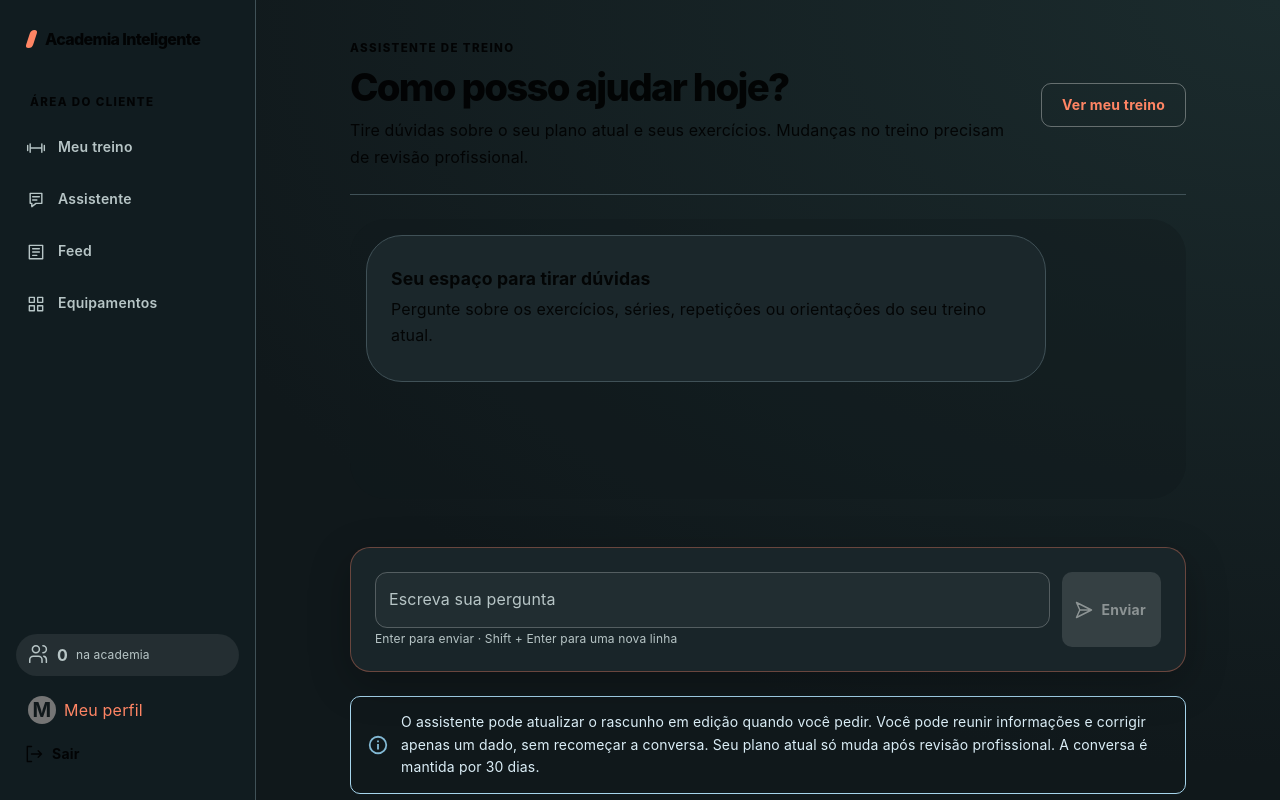
Scenario: sends a Portuguese client training-chat message with a frontend UUID
Expected: the heading "Seu espaço para tirar dúvidas" is shown, [391,268,651,290]
Replace the text in the text box labelled "Escreva sua pergunta" with "Como faço o agachamento?": (713, 600) [389,589,1036,612]
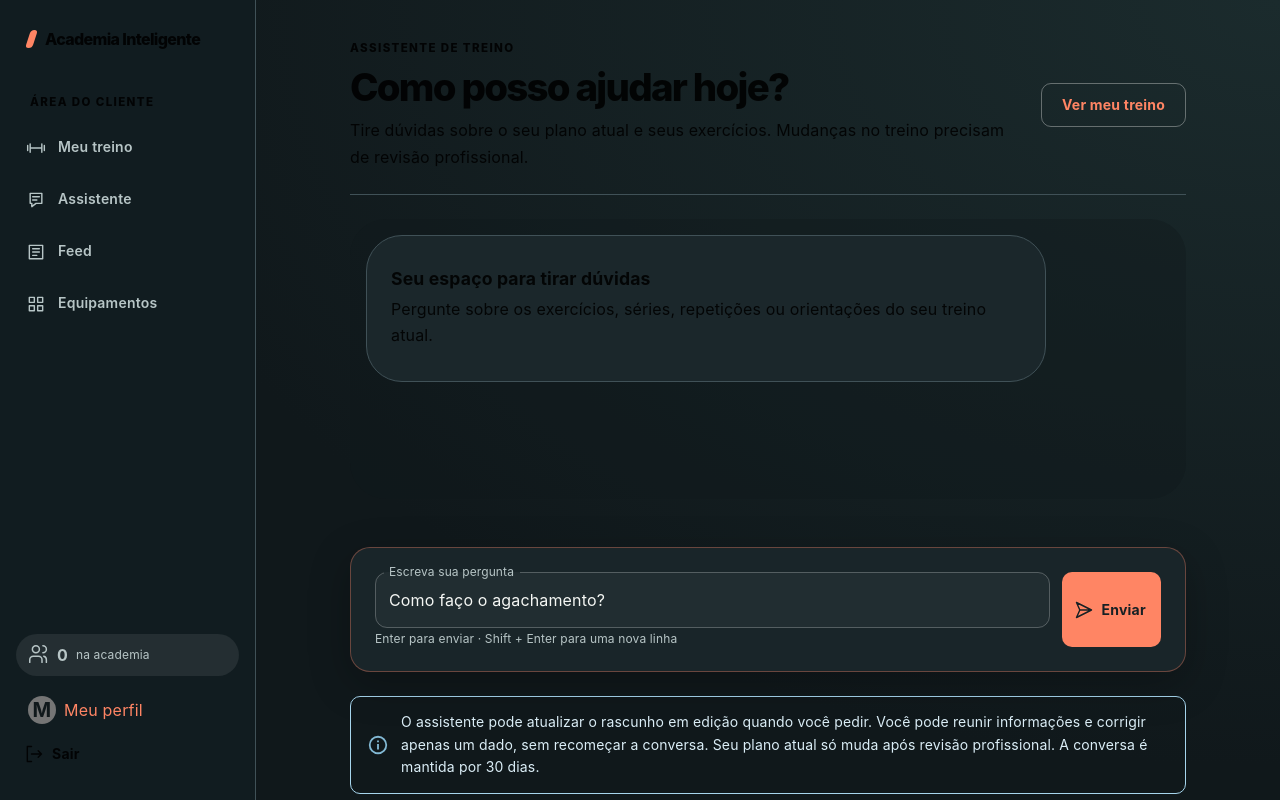
Press Enter in the text box labelled "Escreva sua pergunta", box [389,589,1036,612]
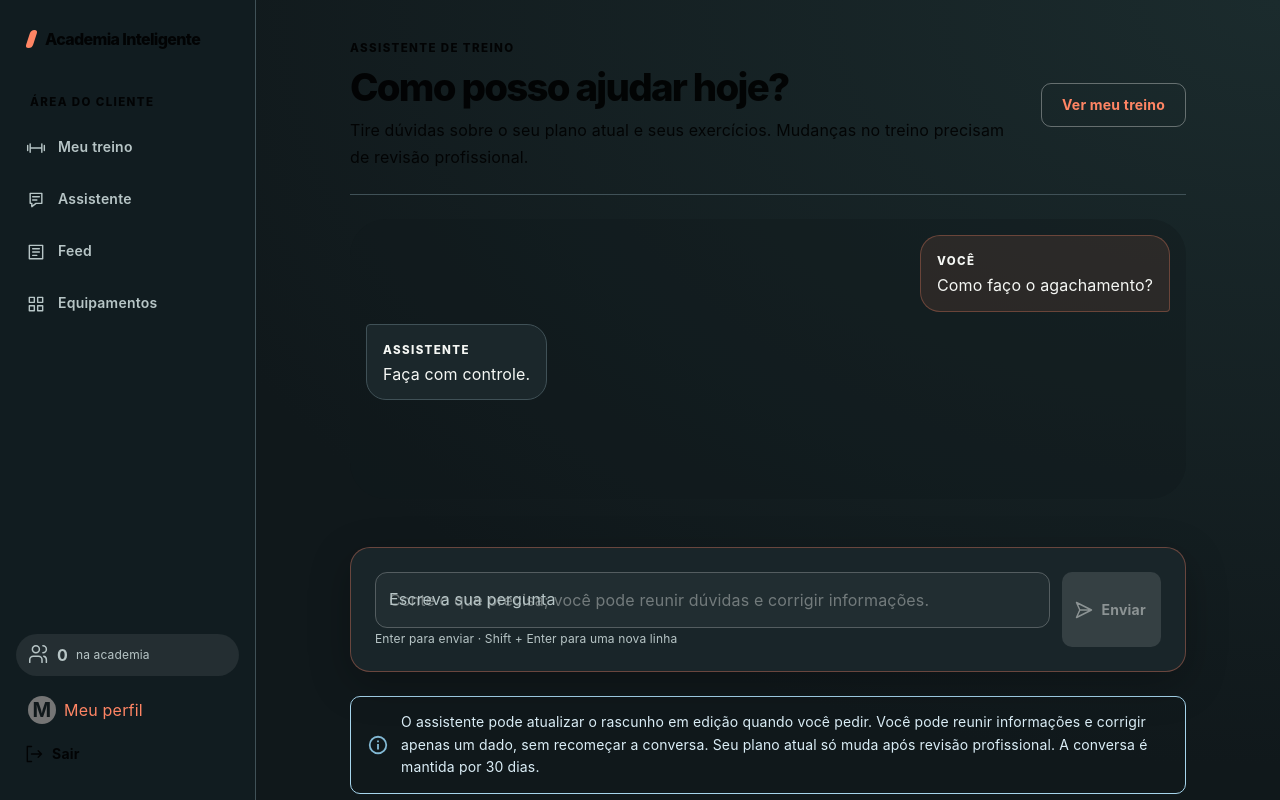
Now the text "Faça com controle." is shown, box [383,361,530,387]
